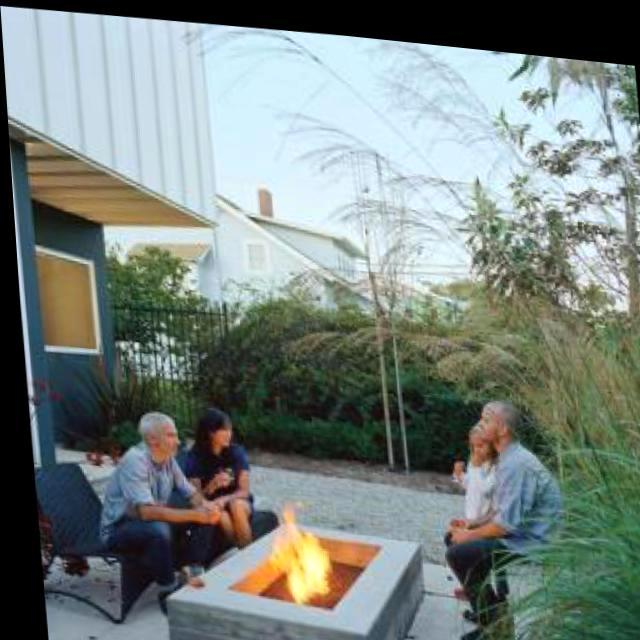fire: (264, 490, 334, 614)
